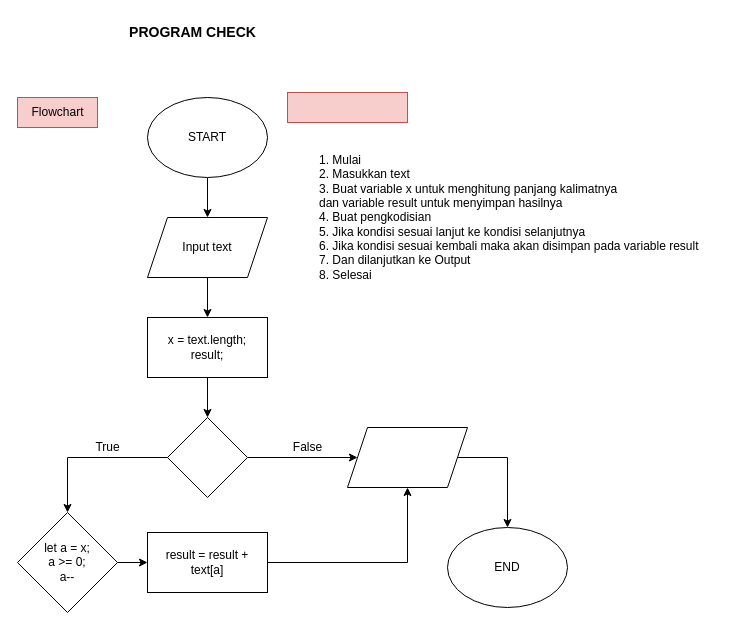
This 735x630 diagram has some shape labels left out. Each missing label, with the centre of its shape:
Natural Language: (x=347, y=107)
Output result: (x=407, y=457)
x >= 0: (x=207, y=457)
